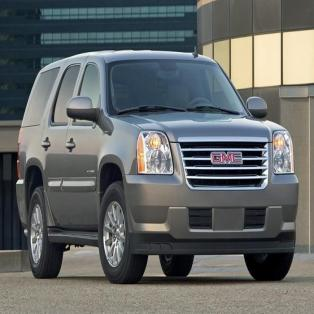Auto: (16, 46, 299, 286)
